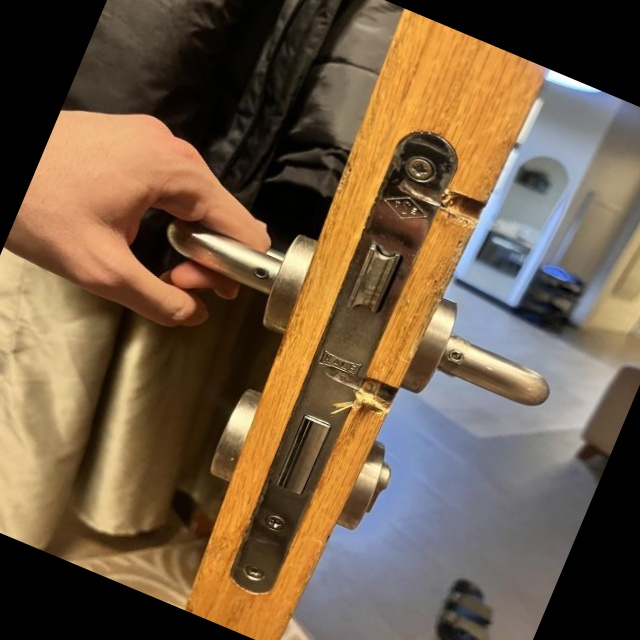phillips: (262, 512, 289, 534)
pozidriv: (403, 154, 437, 185), (243, 563, 266, 581)
